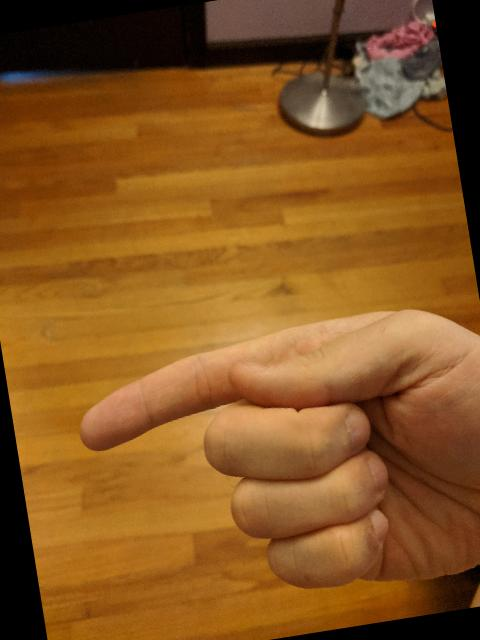G: (56, 281, 480, 639)
